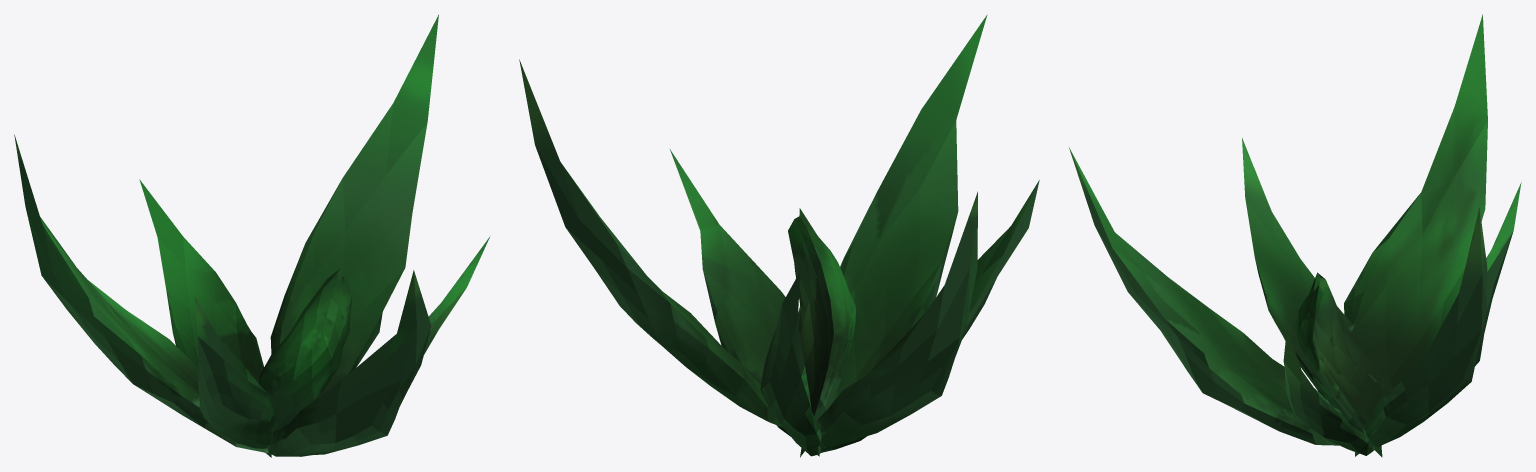
Rendered from grass.obj.
The picture shows the model from 3 angles, left to right: view 1: azimuth 30°, elevation 25°; view 2: azimuth 150°, elevation 25°; view 3: azimuth 270°, elevation 25°; orthographic projection. The views are drawn at different scales.
Visible parts, largest first — view 1: Cube.001_Cube.003; view 2: Cube.001_Cube.003; view 3: Cube.001_Cube.003.
Boxes of the visible parts, x1=… form: Cube.001_Cube.003: x1=14, y1=14, x2=489, y2=457; Cube.001_Cube.003: x1=519, y1=15, x2=1039, y2=457; Cube.001_Cube.003: x1=1069, y1=14, x2=1521, y2=457.
Size of the model in its own units: 3.63 by 2.87 by 3.32.
